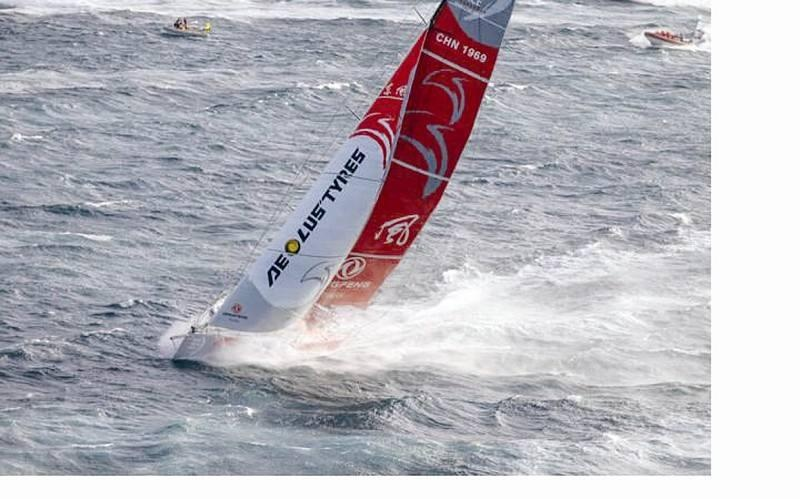fanchuan: (167, 1, 515, 366)
